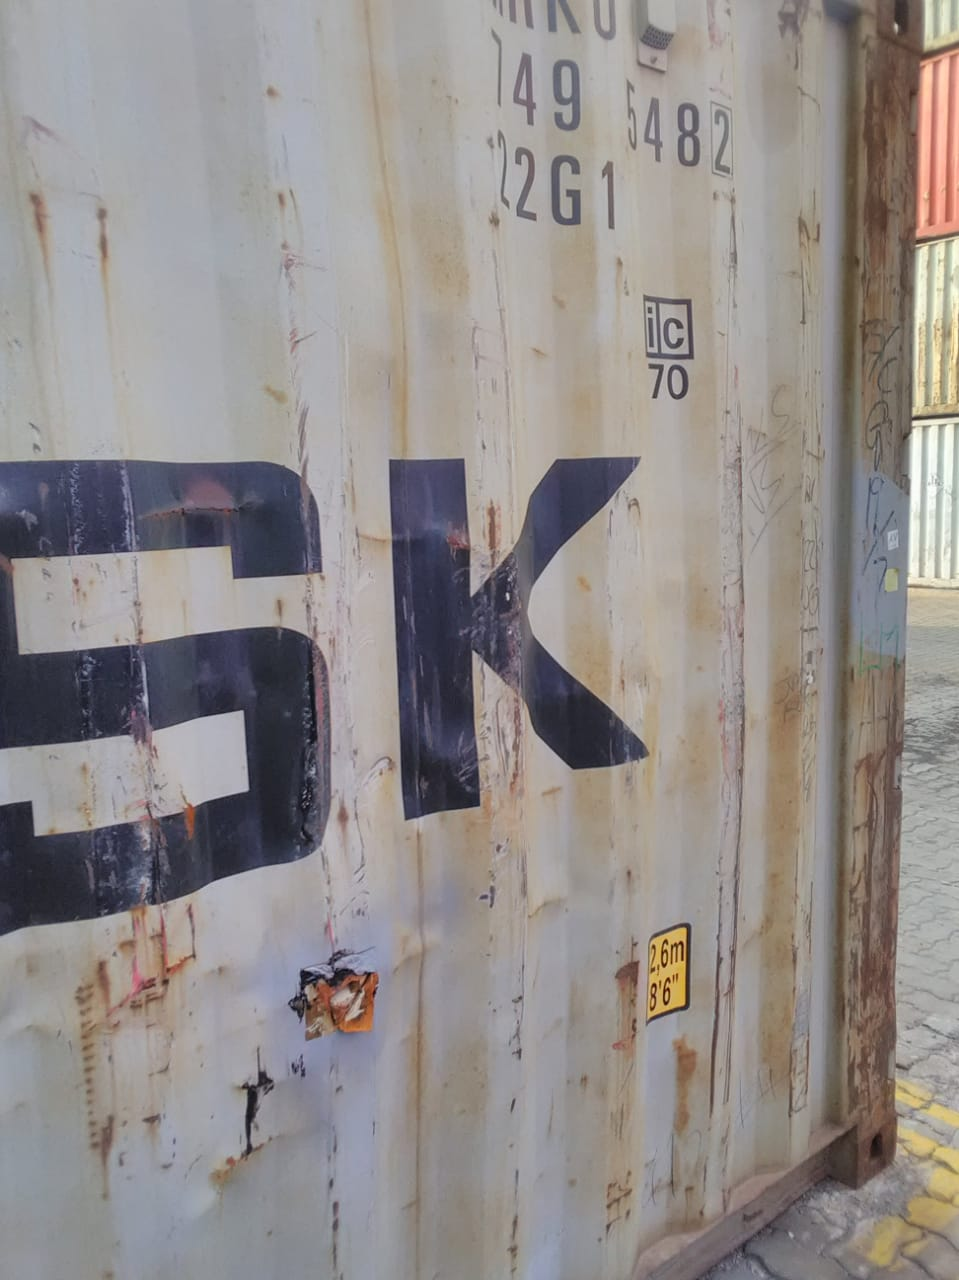cut: (255, 933, 409, 1053)
dented: (155, 1065, 329, 1200)
rust: (66, 834, 198, 1127)
